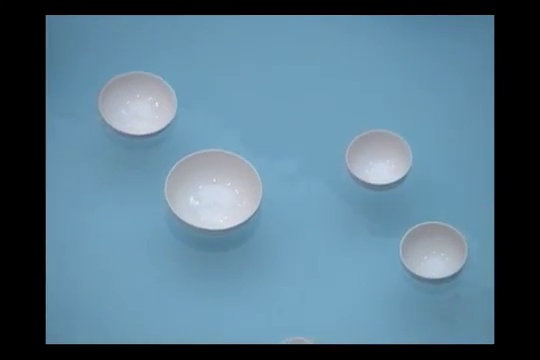bowl: (163, 149, 262, 235), (98, 71, 178, 141), (398, 221, 467, 283), (345, 129, 412, 191)
